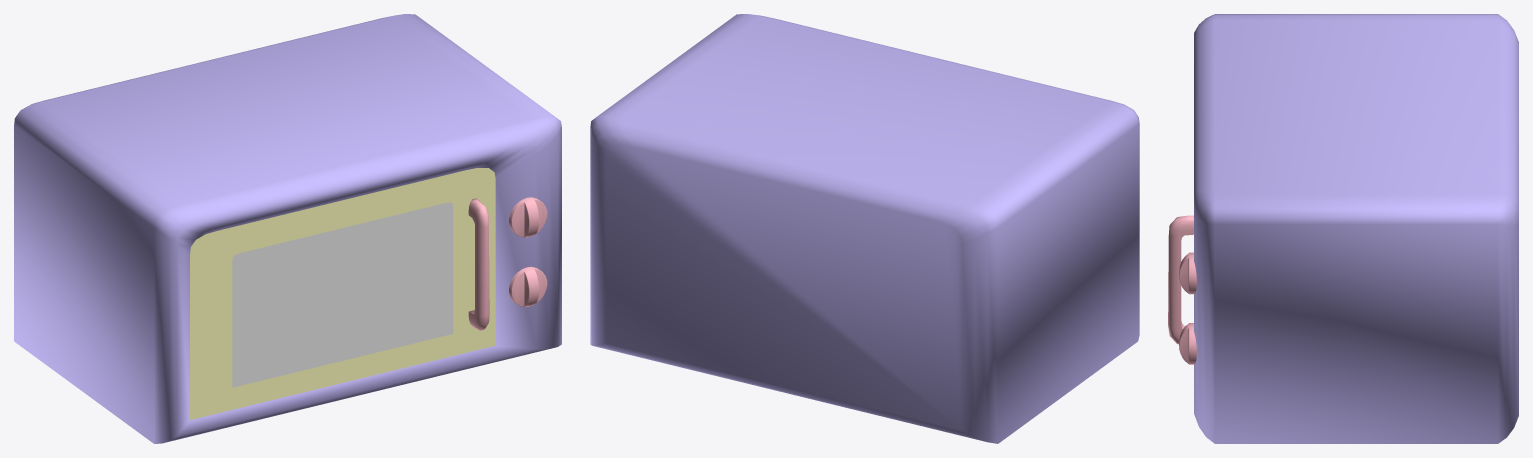
File: MIKRO.fbx
The picture shows the model from 3 angles, left to right: view 1: azimuth 30°, elevation 25°; view 2: azimuth 150°, elevation 25°; view 3: azimuth 270°, elevation 25°; orthographic projection.
Visible parts, largest first — view 1: Cube, Cube.004; view 2: Cube; view 3: Cube, Cube.004.
Part boxes in pixels (bbox=[...]): Cube: bbox=[14, 14, 561, 443]; Cube.004: bbox=[190, 168, 495, 419]; Cube: bbox=[590, 14, 1139, 443]; Cube: bbox=[1179, 14, 1518, 443]; Cube.004: bbox=[1168, 215, 1193, 344].
Bounding box in the file's own units: 1.41 × 0.7697 × 1.04.
